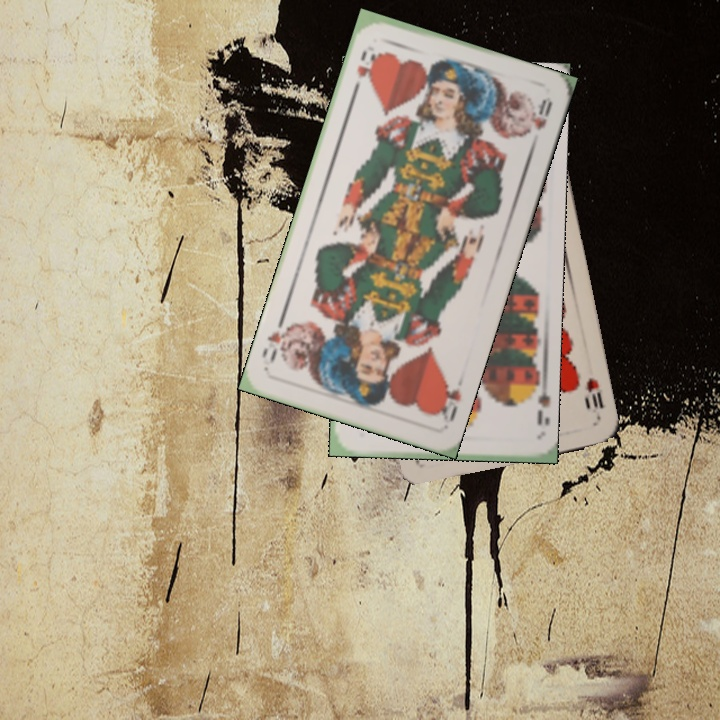H10: (582, 373, 606, 423)
HO: (432, 371, 467, 426), (349, 46, 382, 95)
S9: (524, 377, 551, 428)
